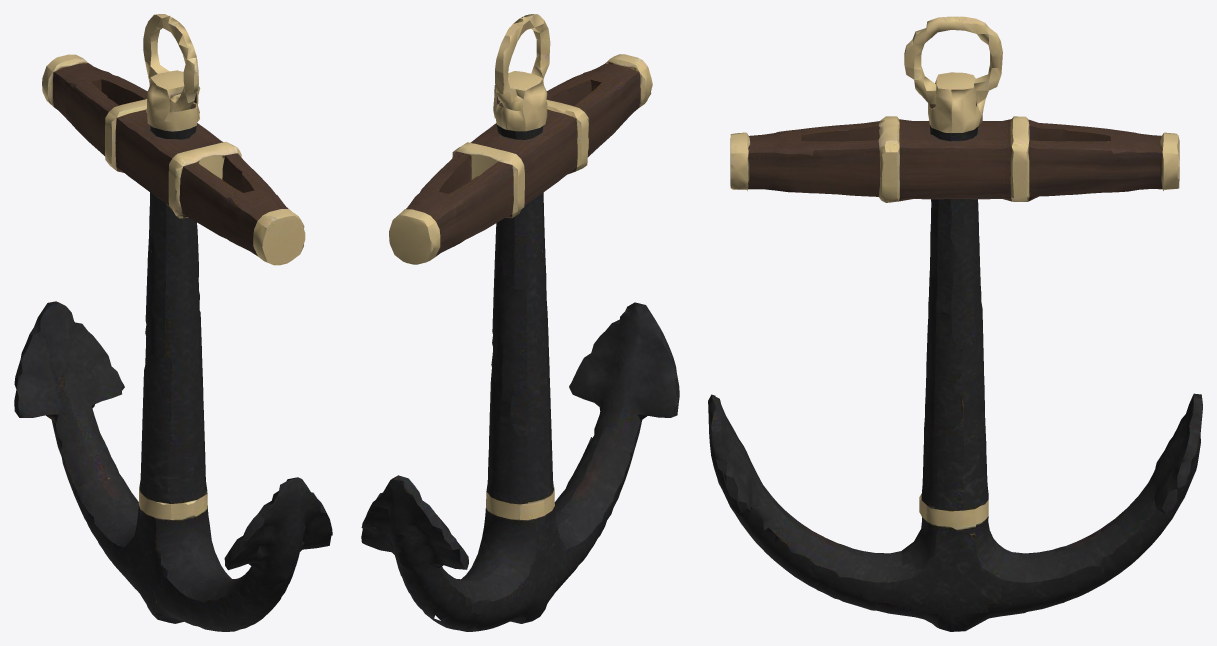
Rendered from ancre.glb.
The picture shows the model from 3 angles, left to right: view 1: azimuth 30°, elevation 25°; view 2: azimuth 150°, elevation 25°; view 3: azimuth 270°, elevation 25°; orthographic projection.
Visible parts, largest first — view 1: ancre; view 2: ancre; view 3: ancre.
Boxes of the visible parts, x1,y1,x2,y2 form: ancre: (14,14,332,631); ancre: (361,14,679,631); ancre: (708,16,1202,631).
Size of the model in its own units: 0.5464 by 3 by 2.19.
Materials: 1 (1 with a texture image).
